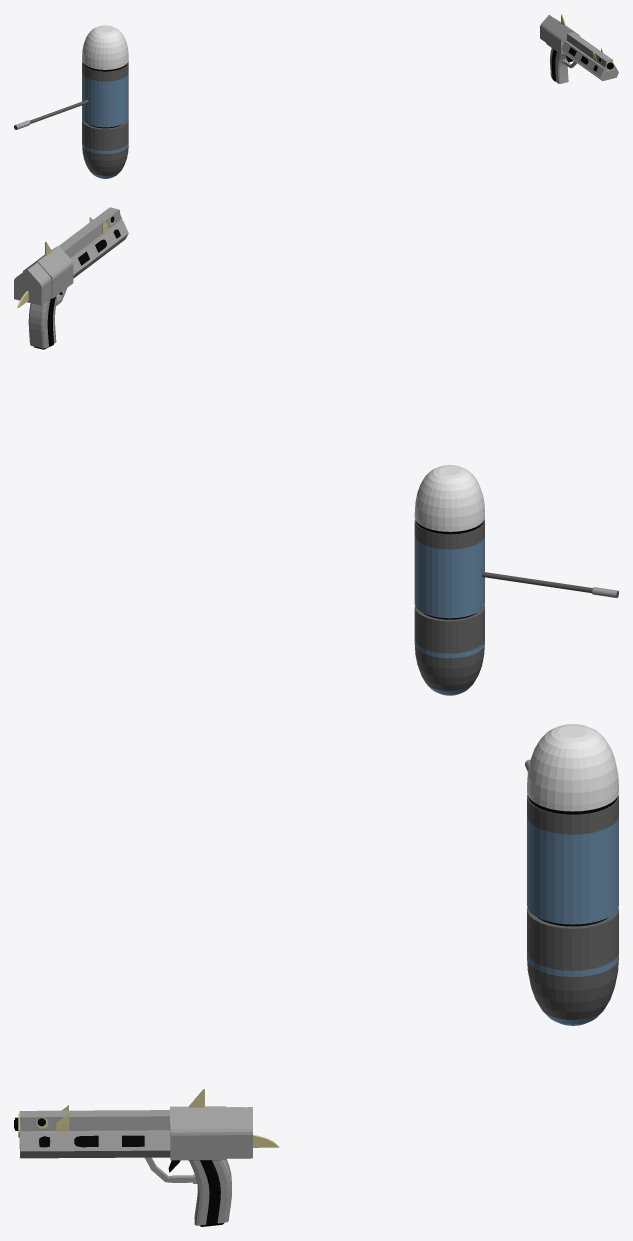
File: Gun.fbx
3 views of the same model, one above another, from view 1: azimuth 30°, elevation 25°; view 2: azimuth 150°, elevation 25°; view 3: azimuth 270°, elevation 25° (orthographic). The views are drawn at different scales.
Parts seen in each view (by area): view 1: WaterBottle, gUN; view 2: WaterBottle, gUN; view 3: WaterBottle, gUN.
Boxes of the visible parts, left/top/right/bottom form: WaterBottle: left=14, top=25, right=128, bottom=178; gUN: left=540, top=14, right=618, bottom=83; WaterBottle: left=414, top=465, right=618, bottom=695; gUN: left=14, top=207, right=128, bottom=349; WaterBottle: left=525, top=724, right=618, bottom=1025; gUN: left=14, top=1089, right=279, bottom=1226.
Bounding box in the file's own units: 287 × 84.6 × 161.
